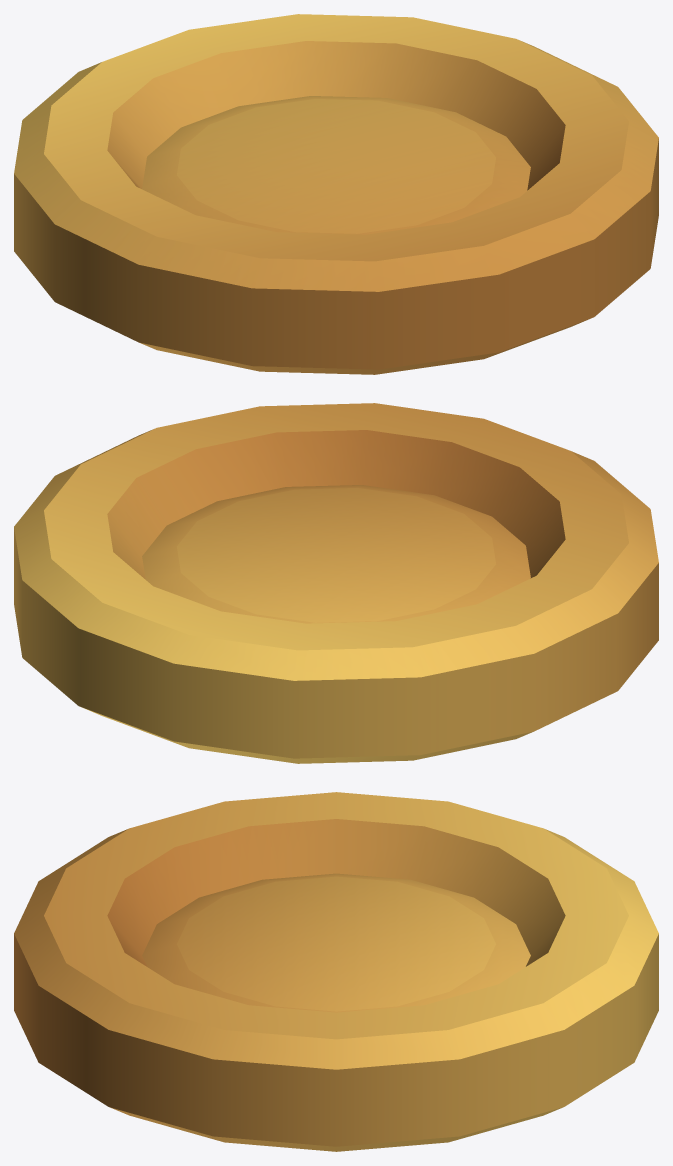
The model's file is coin_gold.obj.
The picture shows the model from 3 angles, top to bottom: view 1: azimuth 30°, elevation 25°; view 2: azimuth 150°, elevation 25°; view 3: azimuth 270°, elevation 25°; orthographic projection.
Parts seen in each view (by area): view 1: coin_gold; view 2: coin_gold; view 3: coin_gold.
Part boxes in pixels (<box>): coin_gold: <box>14,14,658,374</box>; coin_gold: <box>14,403,658,763</box>; coin_gold: <box>14,792,658,1151</box>.
Bounding box in the file's own units: 1.04 × 0.2 × 1.04.
Materials: 1 (1 with a texture image).
